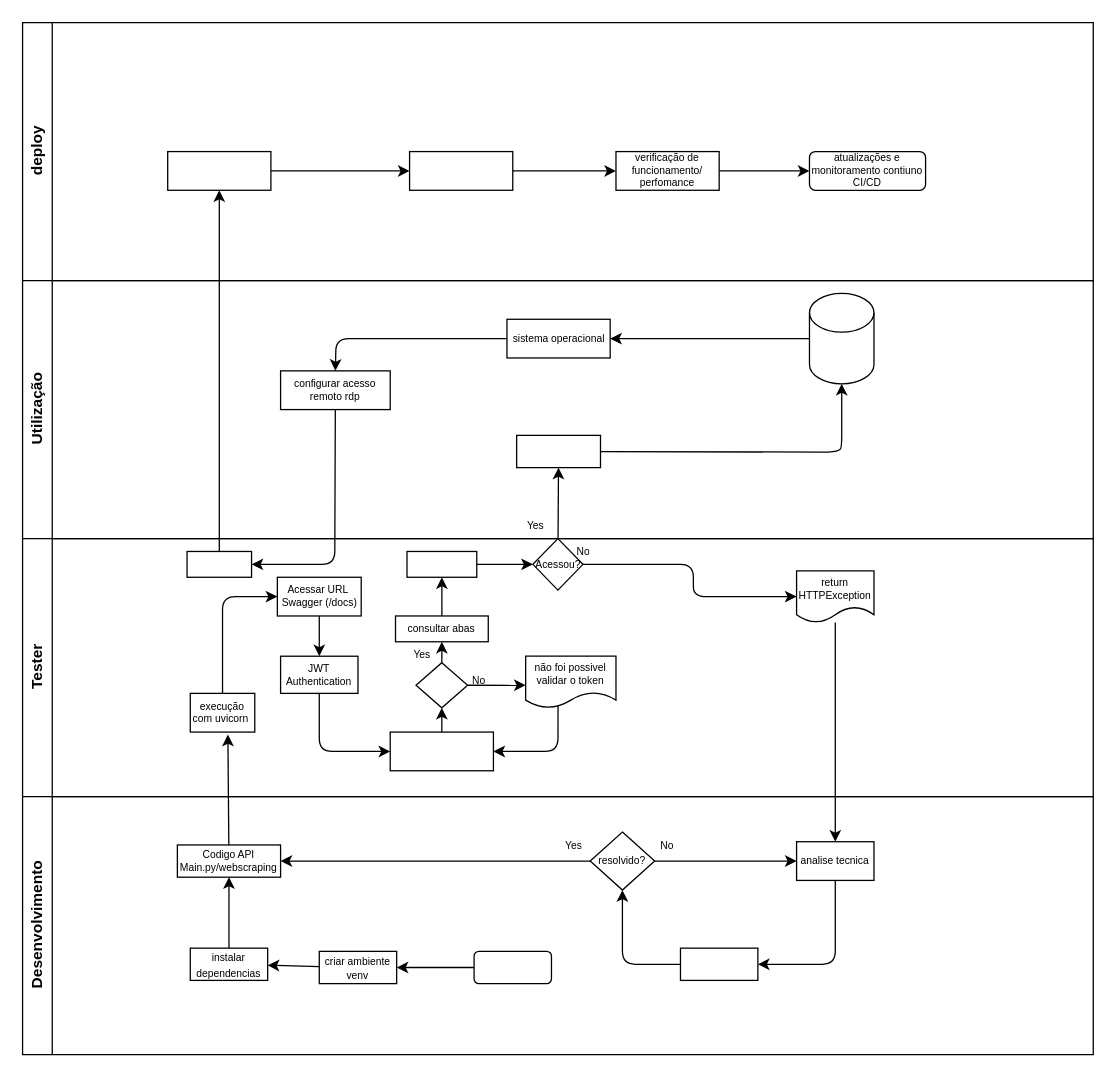
The diagram is 1116 pixels wide and 1077 high, and some of its shapes have lost their labels. The centre of each missing label's shape, as x and y in pixels:
"criar executavel Gunicorn" belongs at point 218,170.
"fix solutions" belongs at point 718,963.
"gerou a key?" belongs at point 441,684.
"instalar python" belongs at point 512,967.
"proxy / SSL" belongs at point 460,170.
"servidor Vps ou cloud" belongs at point 841,338.
"Subtipo" belongs at point 441,563.
"testar rdp" belongs at point 219,563.
"teste concluido / webscraping feito" belongs at point 557,451.
"verificação token de acesso" belongs at point 441,751.
